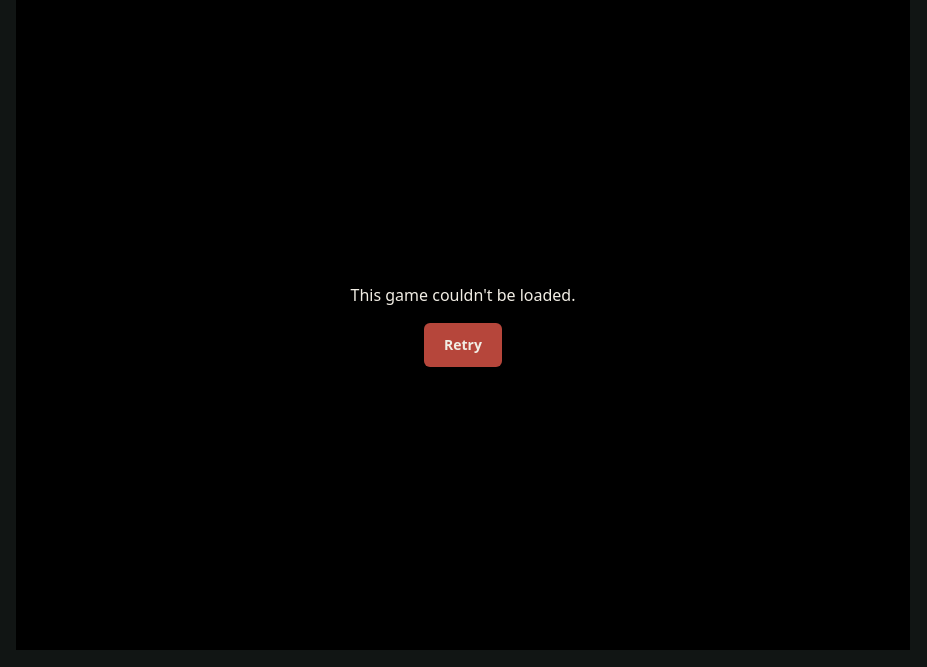
Test: RufflePlayer status transitions › Retry re-runs loadRuffle and creates a fresh player
Click the button "Retry": click(463, 345) left=424, top=323, right=502, bottom=367
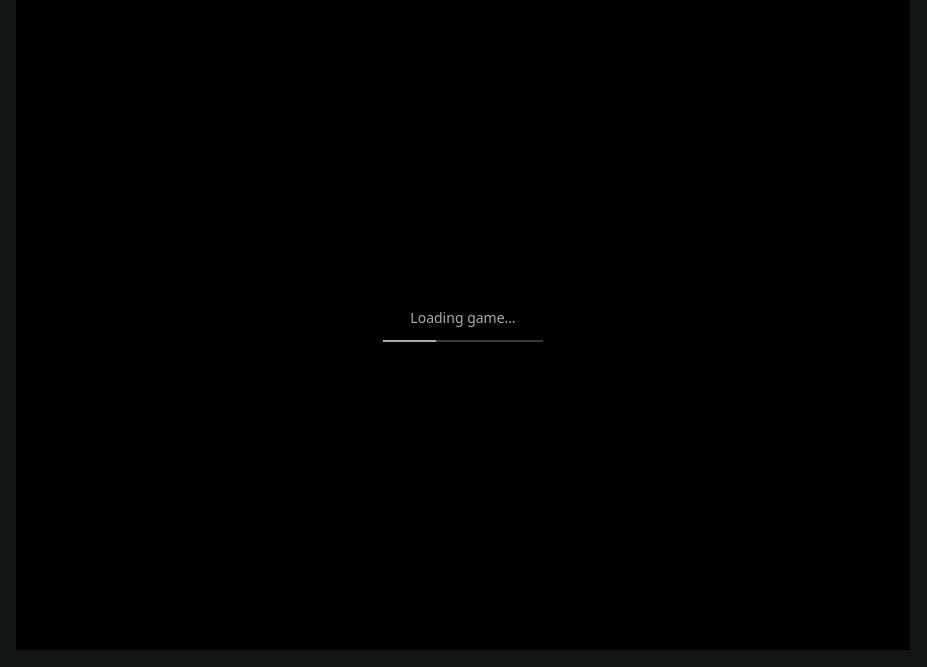
Expected: the message "Loading game…" is shown
